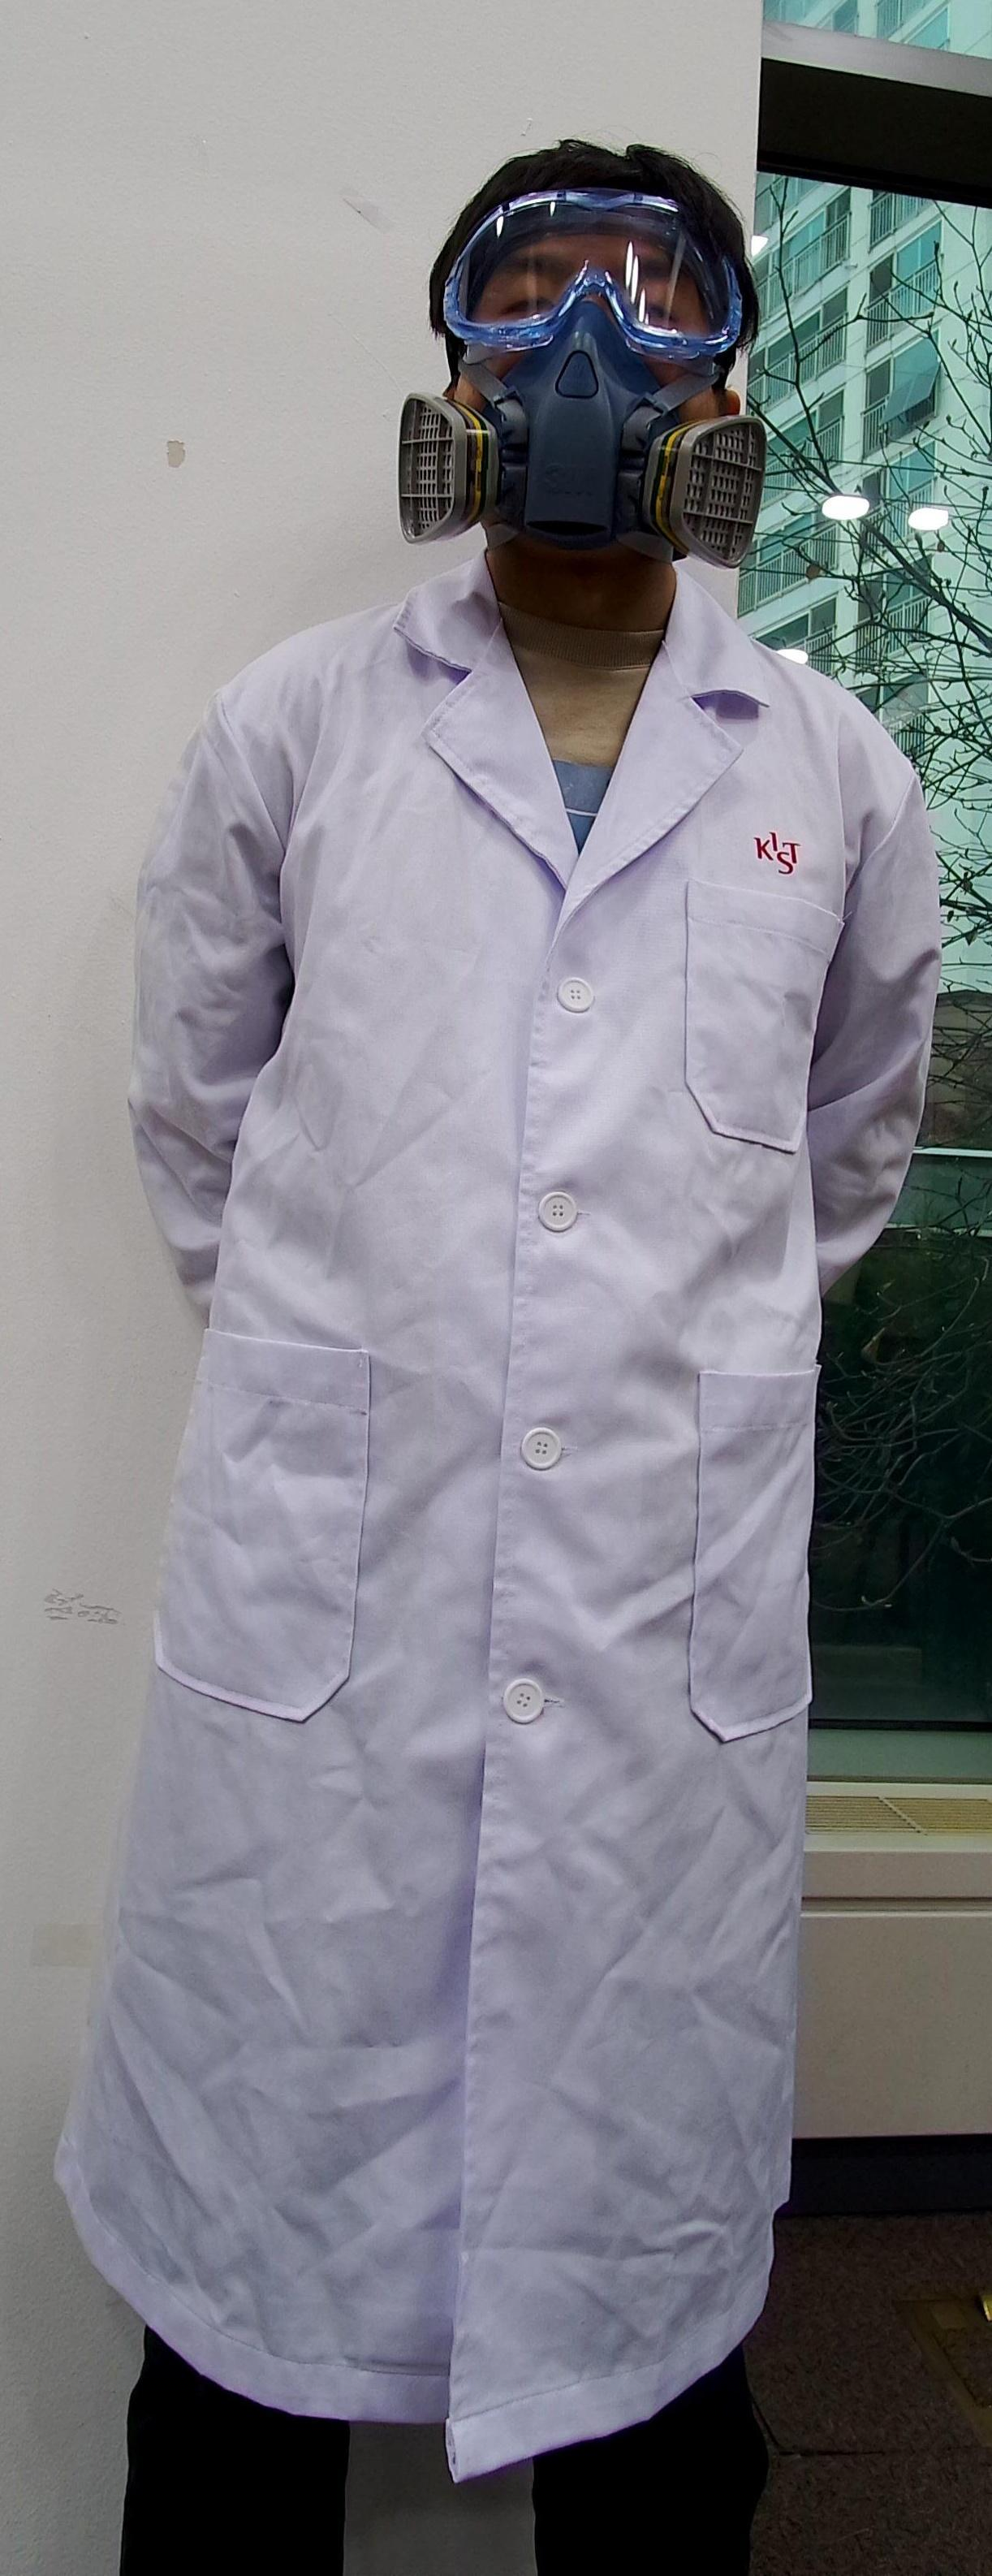lab_coat: (71, 618, 941, 2420)
